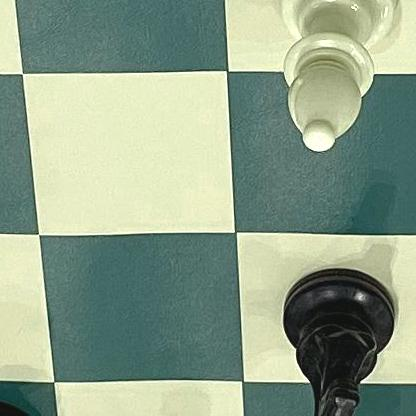black-knight: (266, 260, 416, 416)
white-bishop: (260, 0, 414, 164)
